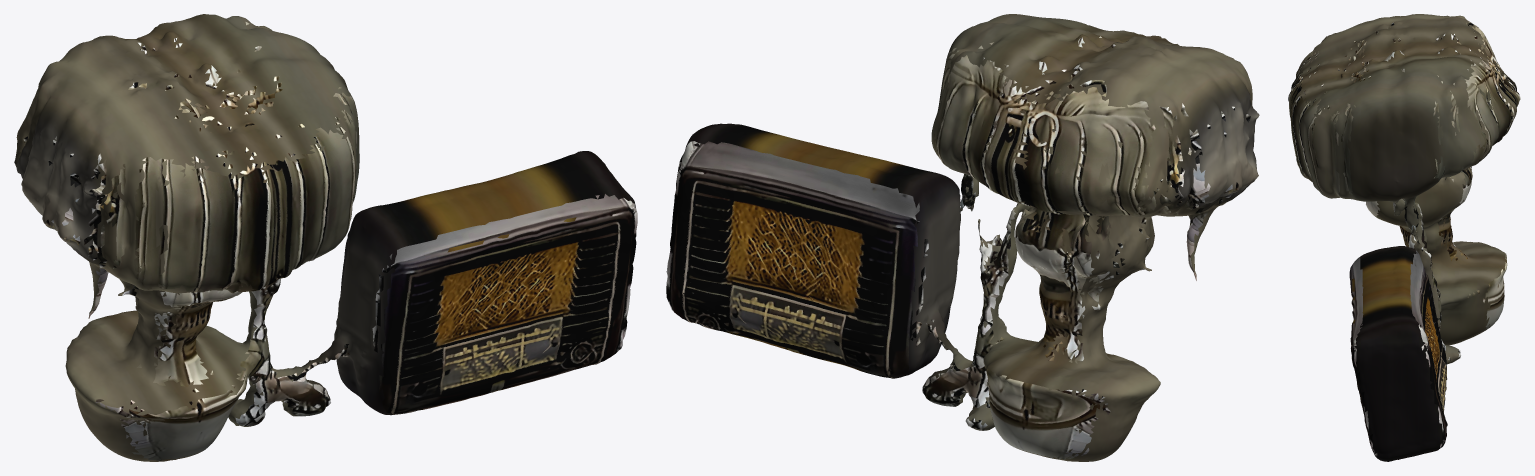
The model's file is kfl-2316.glb.
3 views of the same model, side by side, from view 1: azimuth 30°, elevation 25°; view 2: azimuth 150°, elevation 25°; view 3: azimuth 270°, elevation 25° (orthographic). The views are drawn at different scales.
Visible parts, largest first — view 1: kfl-2316; view 2: kfl-2316; view 3: kfl-2316.
Boxes of the visible parts, x1,y1,x2,y2 form: kfl-2316: [14, 14, 637, 461]; kfl-2316: [666, 14, 1259, 461]; kfl-2316: [1288, 14, 1520, 461].
Size of the model in its own units: 0.9913 by 0.6906 by 0.4864.
Materials: 4 (4 with a texture image).
